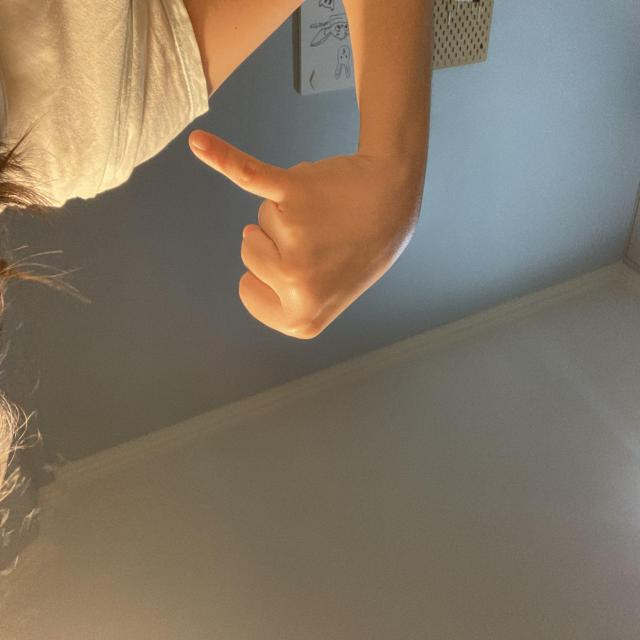J: (220, 300, 452, 511)
